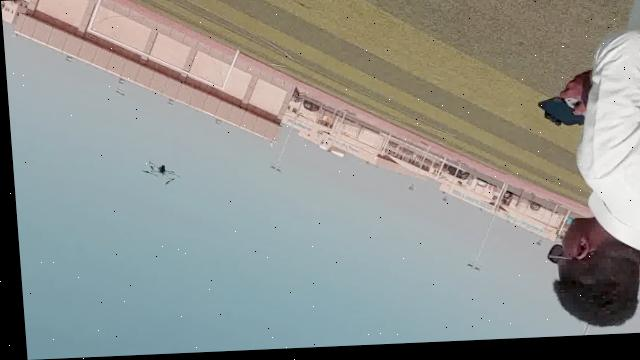drone: (131, 158, 177, 194)
